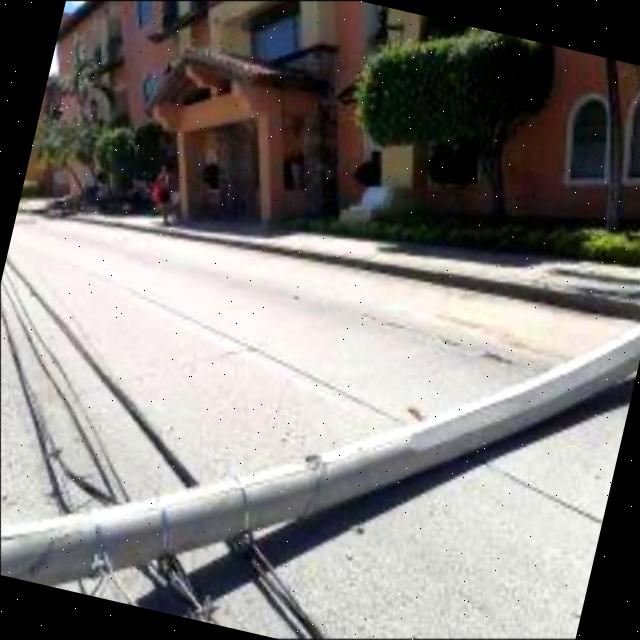Broken Pole: (0, 324, 639, 587)
